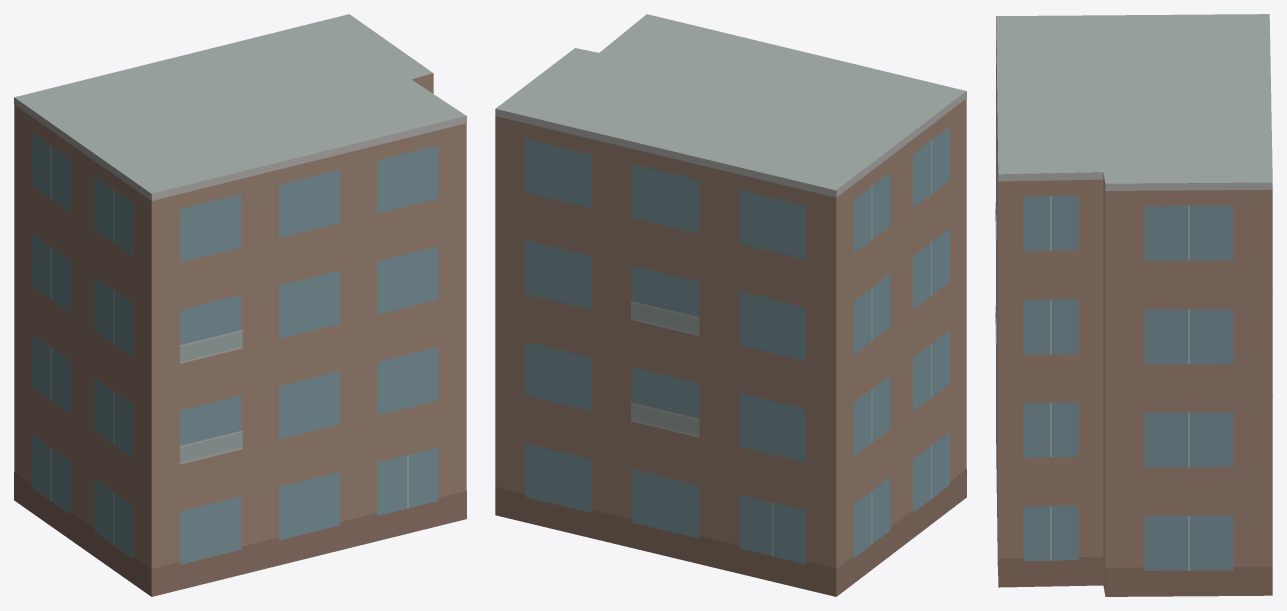
The model's file is survey-upis-32493598.glb.
3 views of the same model, side by side, from view 1: azimuth 30°, elevation 25°; view 2: azimuth 150°, elevation 25°; view 3: azimuth 270°, elevation 25° (orthographic). The views are drawn at different scales.
Parts seen in each view (by area): view 1: survey-upis-32493598.tmp; view 2: survey-upis-32493598.tmp; view 3: survey-upis-32493598.tmp.
Part boxes in pixels (x1,y1,x2,y2): survey-upis-32493598.tmp: [14, 14, 466, 596]; survey-upis-32493598.tmp: [495, 14, 966, 596]; survey-upis-32493598.tmp: [995, 14, 1272, 596].
Bounding box in the file's own units: 12.17 × 13.8 × 8.41.
